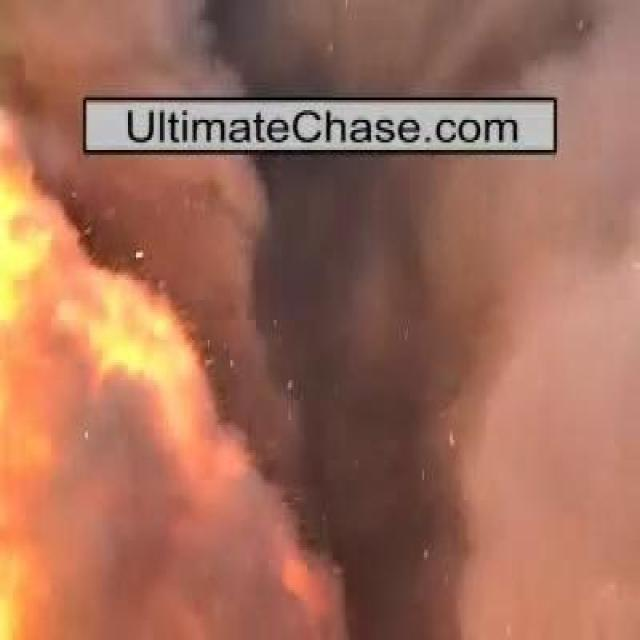Smoke: (127, 164, 526, 571)
